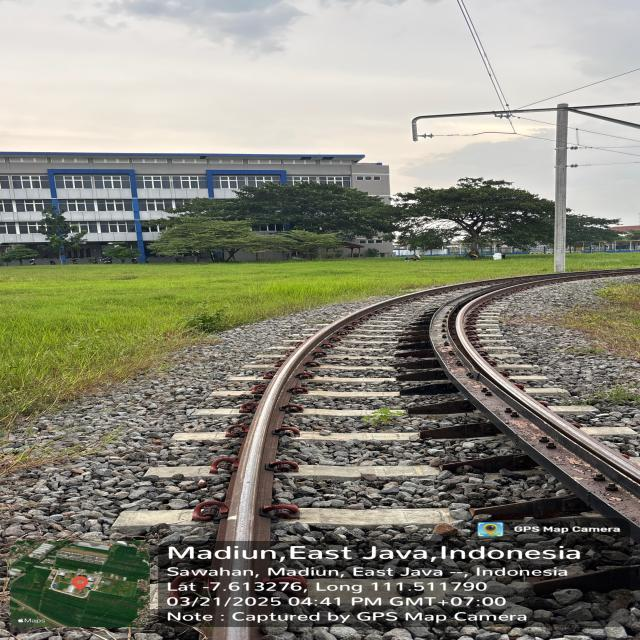rail-detection: (428, 271, 640, 543), (210, 311, 360, 640), (288, 286, 455, 369)
